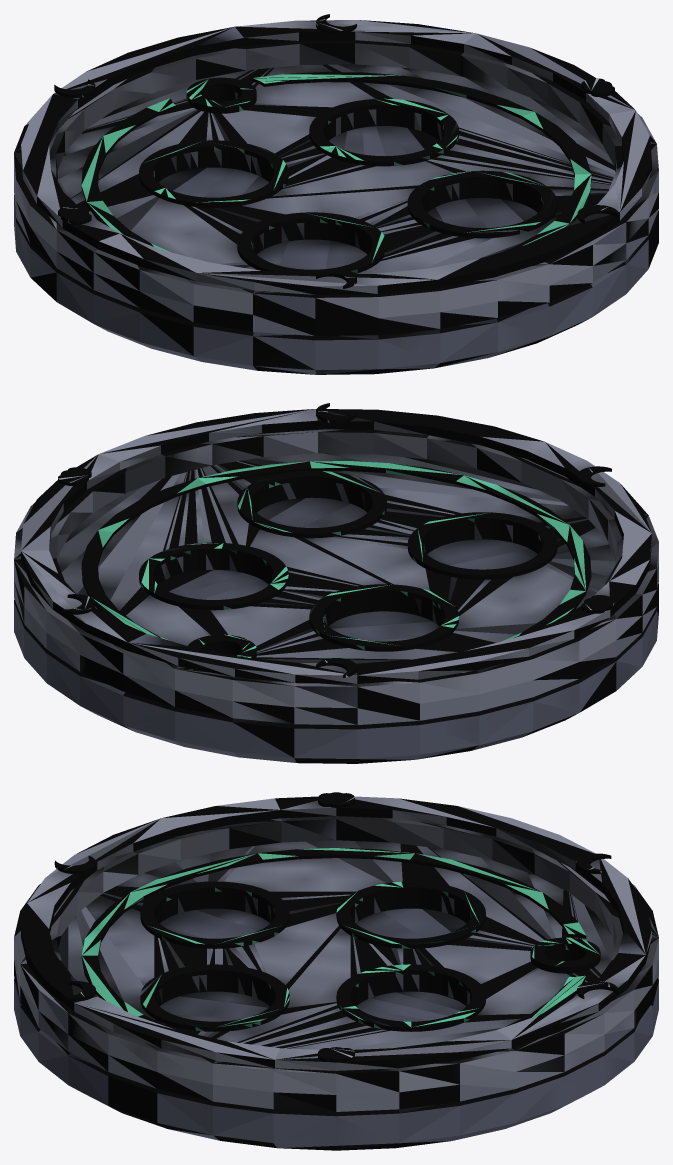
The model's file is HomePlatform_Esmeralda.glb.
3 renders of one model, top to bottom at view 1: azimuth 30°, elevation 25°; view 2: azimuth 150°, elevation 25°; view 3: azimuth 270°, elevation 25°, orthographic.
Visible parts, largest first — view 1: Surface, Body, Rim, RimTop, TeamInlayRing, TokenSocketCollar_3, TokenSocketCollar_4, TokenSocketCollar_2, TokenSocketCollar_1, BannerSocketCollar; view 2: Surface, Body, Rim, RimTop, TeamInlayRing, TokenSocketCollar_3, TokenSocketCollar_1, TokenSocketCollar_2, TokenSocketCollar_4, BannerSocketCollar; view 3: Surface, Body, Rim, RimTop, TeamInlayRing, TokenSocketCollar_2, TokenSocketCollar_3, TokenSocketCollar_1, TokenSocketCollar_4, BannerSocketCollar.
Part boxes in pixels (x1,y1,x2,y2): Surface: [14, 64, 658, 336]; Body: [14, 126, 658, 374]; Rim: [14, 40, 658, 319]; RimTop: [21, 20, 651, 294]; TeamInlayRing: [81, 72, 591, 252]; TokenSocketCollar_3: [139, 140, 288, 207]; TokenSocketCollar_4: [309, 98, 458, 166]; TokenSocketCollar_2: [407, 170, 557, 238]; TokenSocketCollar_1: [237, 212, 386, 274]; BannerSocketCollar: [186, 77, 256, 113]; Surface: [14, 453, 658, 725]; Body: [14, 497, 658, 763]; Rim: [14, 429, 658, 708]; RimTop: [21, 409, 651, 683]; TeamInlayRing: [81, 461, 591, 641]; TokenSocketCollar_3: [309, 584, 458, 651]; TokenSocketCollar_1: [407, 512, 557, 579]; TokenSocketCollar_2: [237, 470, 386, 538]; TokenSocketCollar_4: [139, 542, 288, 610]; BannerSocketCollar: [188, 634, 256, 658]; Surface: [14, 840, 658, 1111]; Body: [14, 908, 658, 1150]; Rim: [14, 816, 658, 1094]; RimTop: [21, 796, 651, 1070]; TeamInlayRing: [81, 848, 586, 1028]; TokenSocketCollar_2: [140, 964, 289, 1031]; TokenSocketCollar_3: [336, 881, 485, 948]; TokenSocketCollar_1: [140, 881, 289, 948]; TokenSocketCollar_4: [336, 964, 485, 1031]; BannerSocketCollar: [530, 937, 600, 973].
Size of the model in its own units: 2.76 by 0.455 by 2.76.
5 materials, 5 textured.
